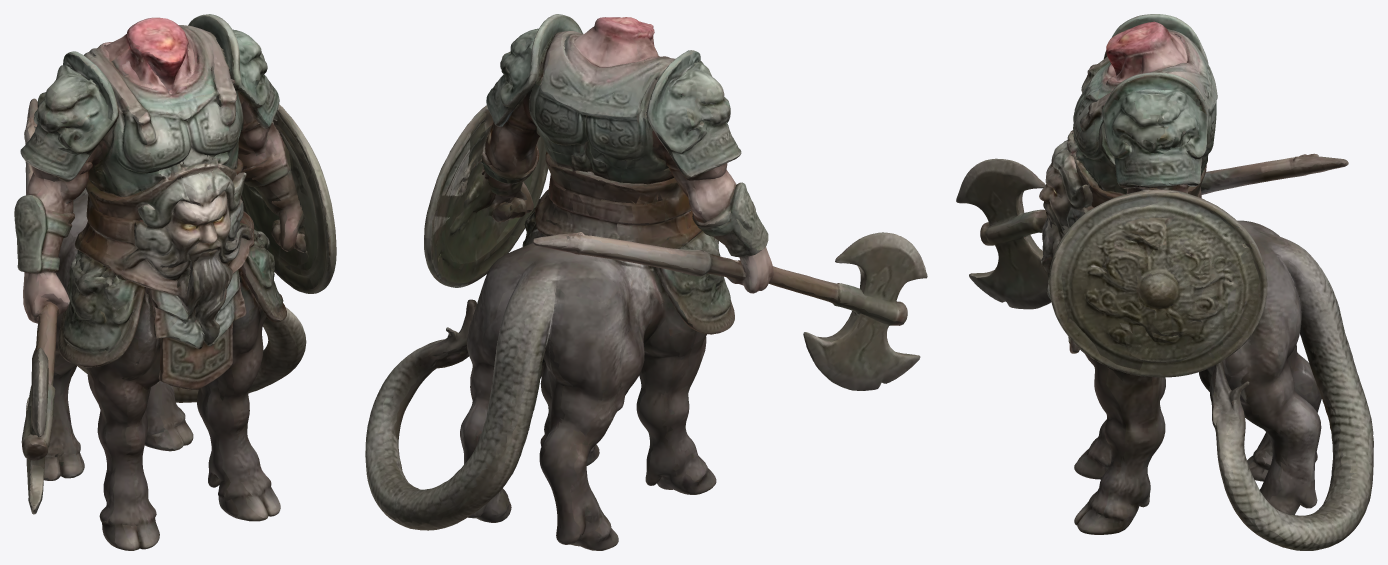
Rendered from xing.glb.
The picture shows the model from 3 angles, left to right: view 1: azimuth 30°, elevation 25°; view 2: azimuth 150°, elevation 25°; view 3: azimuth 270°, elevation 25°; orthographic projection. The views are drawn at different scales.
Parts seen in each view (by area): view 1: geometry_0; view 2: geometry_0; view 3: geometry_0.
Boxes of the visible parts, x1,y1,x2,y2 form: geometry_0: [14, 14, 336, 550]; geometry_0: [365, 14, 927, 550]; geometry_0: [956, 14, 1373, 550].
Size of the model in its own units: 1.61 by 1.8 by 1.47.
1 material, 1 textured.
